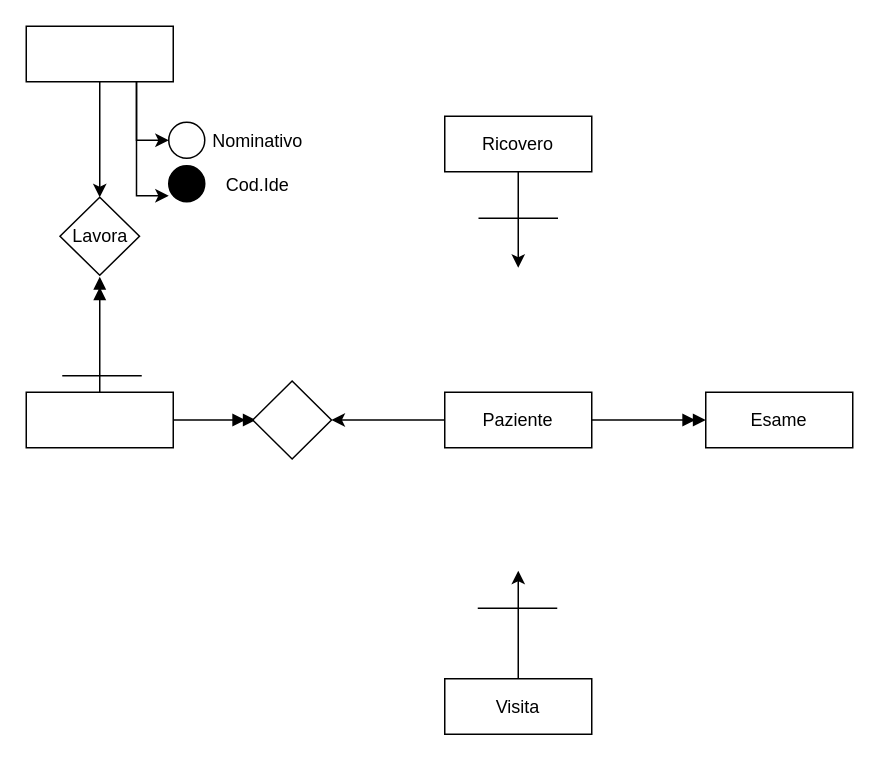
The diagram is 879 pixels wide and 761 high, and some of its shapes have lost their labels. Here are the shapes that lost their labels. From the top down, the centre of each, then its label:
At (99,53): "Medico".
At (99,419): "Reparto".
At (291,419): "Cura".
